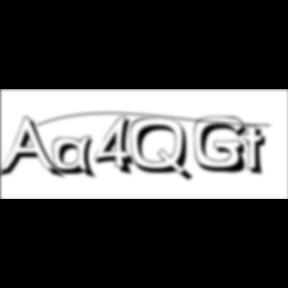4: (94, 115, 140, 179)
A: (0, 116, 66, 182)
G: (194, 116, 254, 176)
Q: (130, 117, 196, 184)
a: (53, 135, 101, 182)
t: (243, 124, 274, 179)
